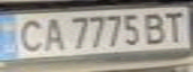5: (121, 11, 145, 47)
7: (84, 12, 109, 50), (66, 13, 90, 51), (103, 11, 124, 47)
A: (36, 15, 69, 52)
B: (139, 10, 172, 45)
C: (9, 16, 48, 53)
T: (160, 8, 190, 44)
